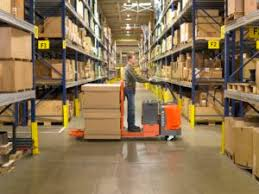Pallet Jack: (67, 80, 186, 143)
